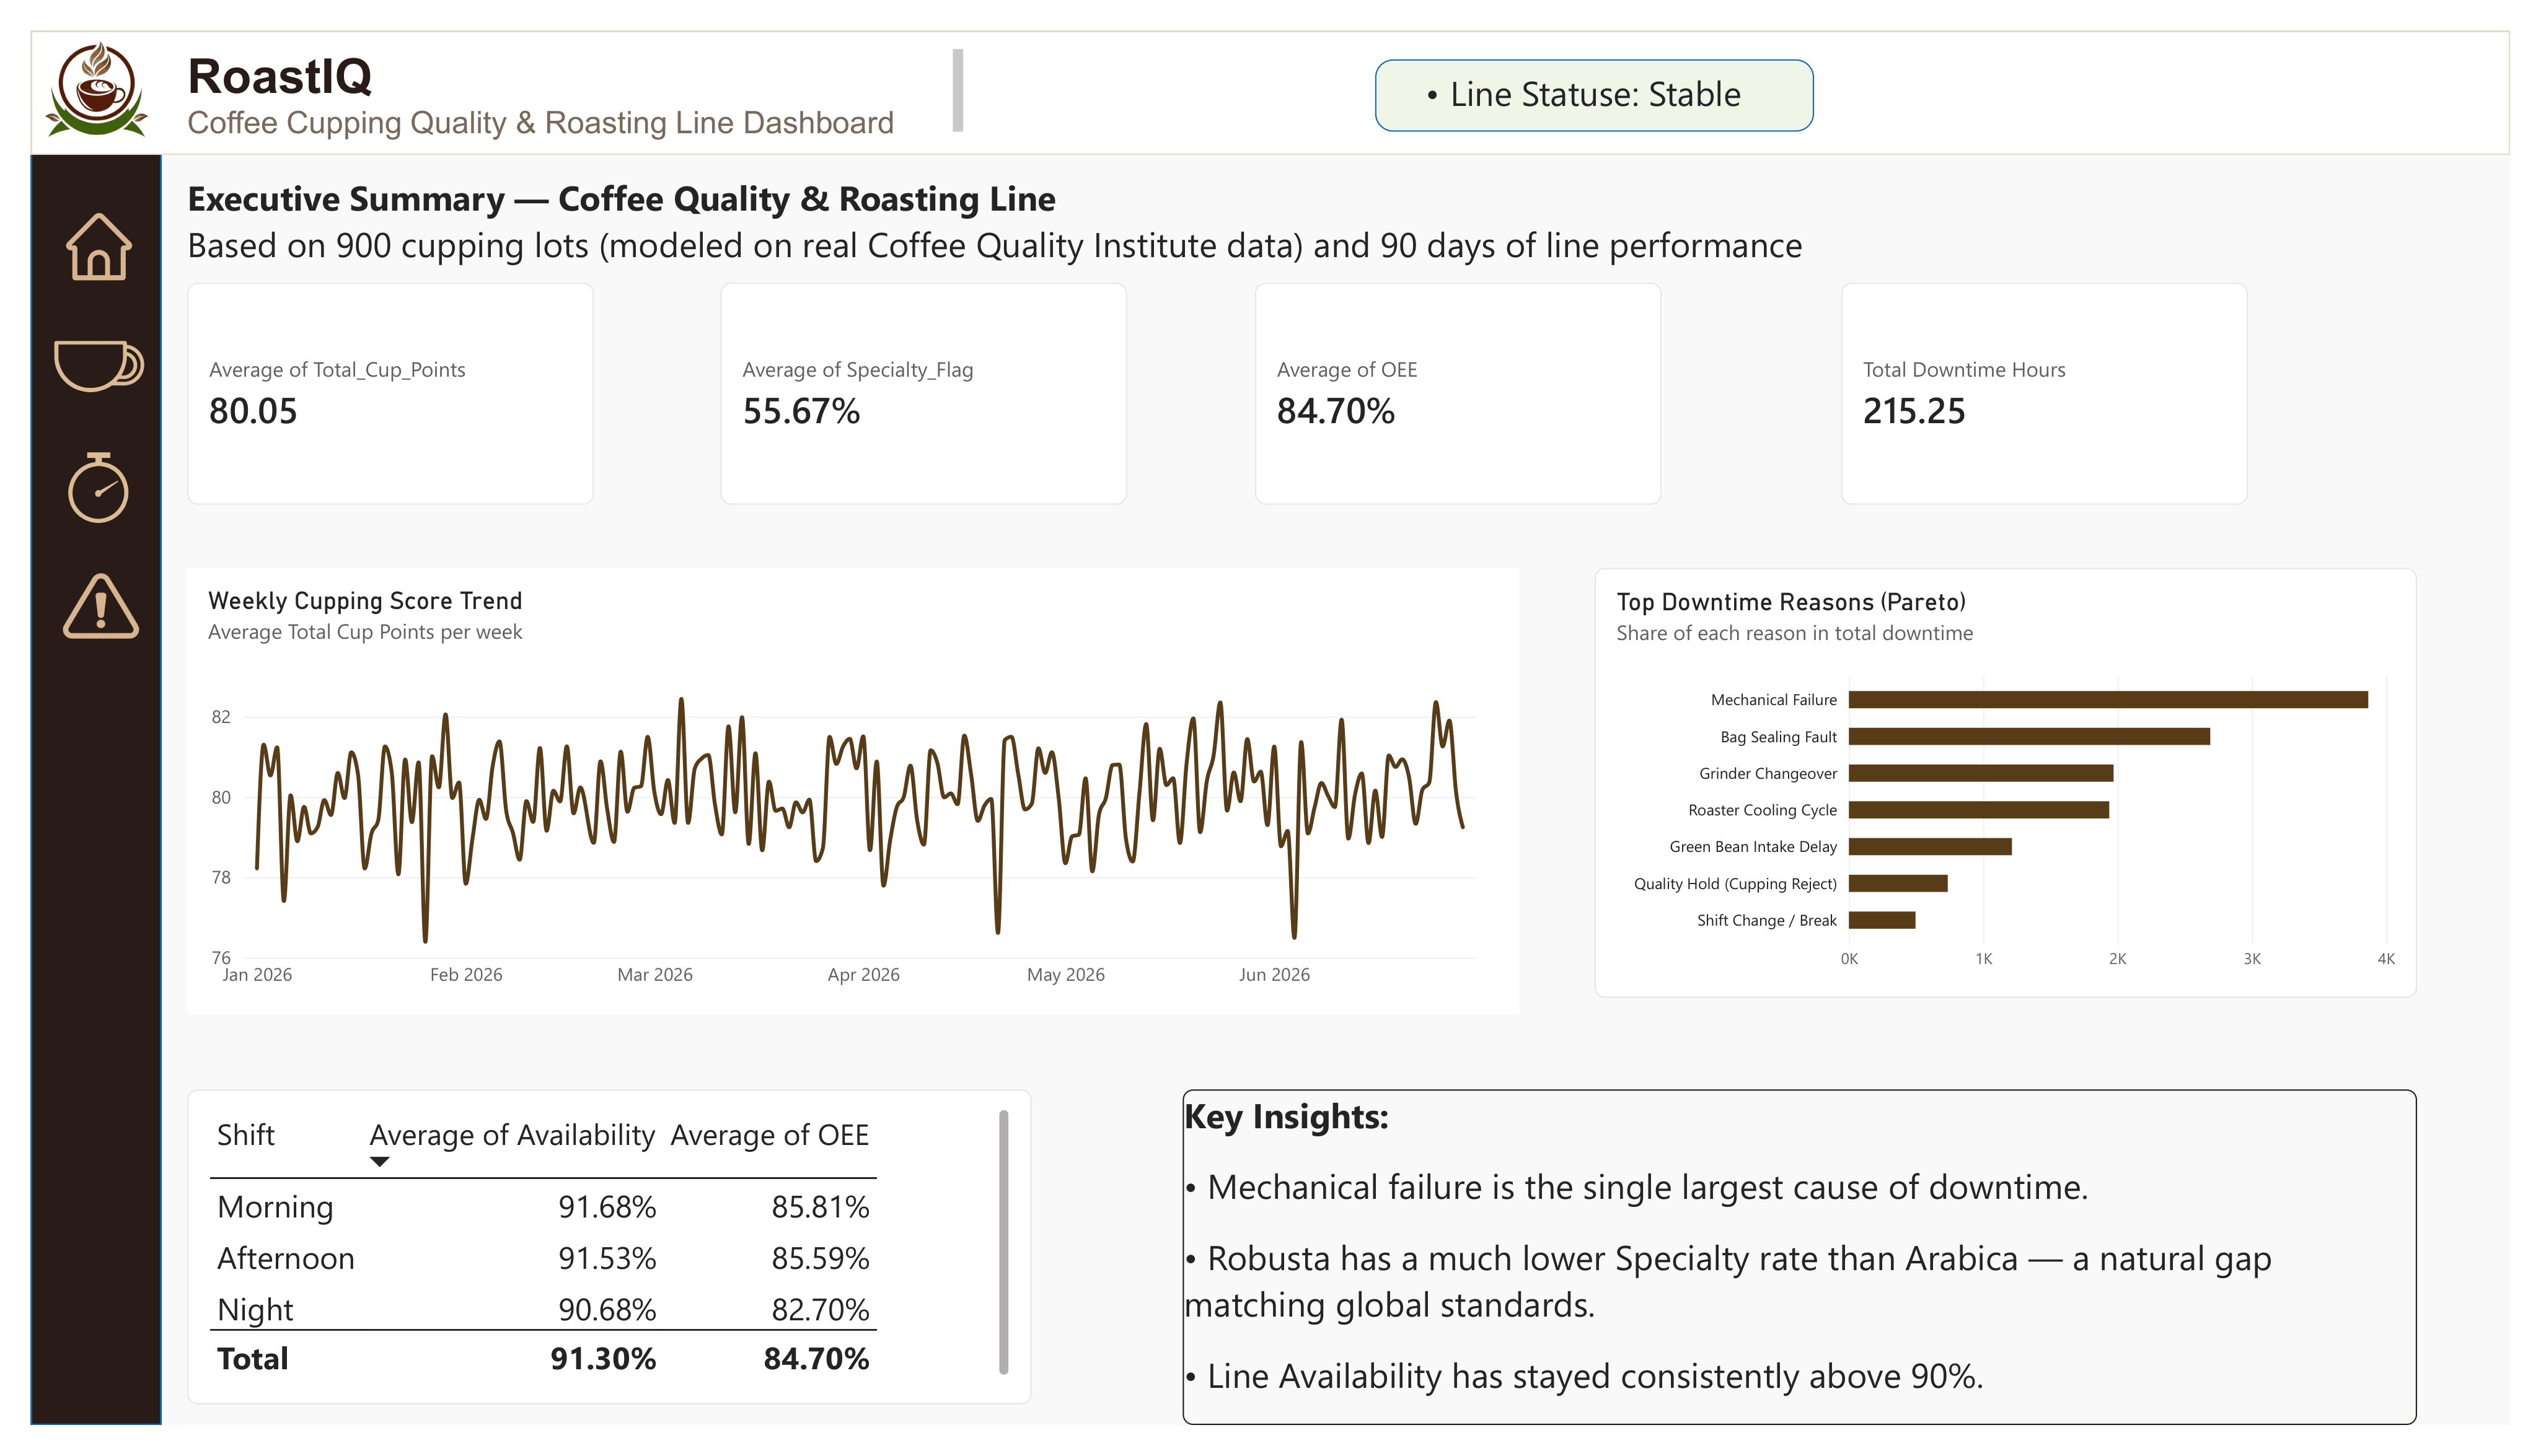

Layout of this report page (visuals, bound fields, positions):
{"tool":"powerbi","page":{"name":"Executive Summary","canvas":[1920,1080],"ordinal":0},"visuals":[{"type":"textbox","box":[121.2,110.4,1596.1,86.9],"z":0},{"type":"shape","box":[0,90.5,101.3,989.9],"z":1000},{"type":"image","box":[14.5,137.5,77.8,59.7],"z":2000},{"type":"image","box":[14.5,322.1,79.6,63.3],"z":3000},{"type":"image","box":[18.1,416.2,70.6,58],"z":4000},{"type":"cardVisual","fields":{"Data":["Avg(Fact_Cupping.Total_Cup_Points)"]},"box":[121.2,195.4,314.9,171.9],"z":5000},{"type":"cardVisual","fields":{"Data":["Fact_Downtime.Total Downtime Hours"]},"box":[1402.5,195.4,314.9,171.9],"z":6000},{"type":"cardVisual","fields":{"Data":["Avg(Fact_RoastingLine.OEE)"]},"box":[948.3,195.4,314.9,171.9],"z":7000},{"type":"cardVisual","fields":{"Data":["Avg(Fact_Cupping.Specialty_Flag)"]},"box":[533.8,195.4,314.9,171.9],"z":8000},{"type":"image","box":[10.9,228,81,61],"z":9000},{"type":"shape","box":[0,0,1920.1,95.9],"z":10000},{"type":"image","box":[2.1,0,97.7,90.5],"z":11000},{"type":"textbox","box":[121.2,14.5,600.8,76],"z":12000},{"type":"shape","box":[1040.8,21.6,340.2,56.1],"z":13000},{"type":"textbox","box":[1058.9,28.8,289.5,49],"z":14000},{"type":"lineChart","title":"Weekly Cupping Score Trend","fields":{"Y":["Avg(Fact_Cupping.Total_Cup_Points)"],"Category":["Fact_Cupping.Date.Variation.Date Hierarchy.Year","Fact_Cupping.Date.Variation.Date Hierarchy.Quarter","Fact_Cupping.Date.Variation.Date Hierarchy.Month","Fact_Cupping.Date.Variation.Date Hierarchy.Day"]},"box":[121.2,416.2,1031.5,345.6],"z":15000},{"type":"clusteredBarChart","title":"Top Downtime Reasons (Pareto)","fields":{"Category":["Fact_Downtime.Reason"],"Y":["Sum(Fact_Downtime.Duration)"]},"box":[1210.7,416.2,637,333],"z":16000},{"type":"tableEx","fields":{"Values":["Fact_RoastingLine.Shift","Avg(Fact_RoastingLine.Availability)","Avg(Fact_RoastingLine.OEE)"]},"box":[121.2,819.8,653.3,244.3],"z":17000},{"type":"textbox","box":[892.2,819.8,955.5,260.6],"z":18000}]}

Visuals, with their boxes on the page's 1920x1080 design canvas (x1, y1, x2, y2). These are canvas units, not pixel positions in the 2541x1456 screenshot, which may show the page scaled, cropped or inside an application window:
textbox: 121/110/1717/197
shape: 0/90/101/1080
image: 14/138/92/197
image: 14/322/94/385
image: 18/416/89/474
cardVisual - Avg(Fact_Cupping.Total_Cup_Points): 121/195/436/367
cardVisual - Fact_Downtime.Total Downtime Hours: 1402/195/1717/367
cardVisual - Avg(Fact_RoastingLine.OEE): 948/195/1263/367
cardVisual - Avg(Fact_Cupping.Specialty_Flag): 534/195/849/367
image: 11/228/92/289
shape: 0/0/1920/96
image: 2/0/100/90
textbox: 121/14/722/90
shape: 1041/22/1381/78
textbox: 1059/29/1348/78
"Weekly Cupping Score Trend" lineChart: 121/416/1153/762
"Top Downtime Reasons (Pareto)" clusteredBarChart: 1211/416/1848/749
tableEx - Fact_RoastingLine.Shift x Avg(Fact_RoastingLine.Availability): 121/820/774/1064
textbox: 892/820/1848/1080
